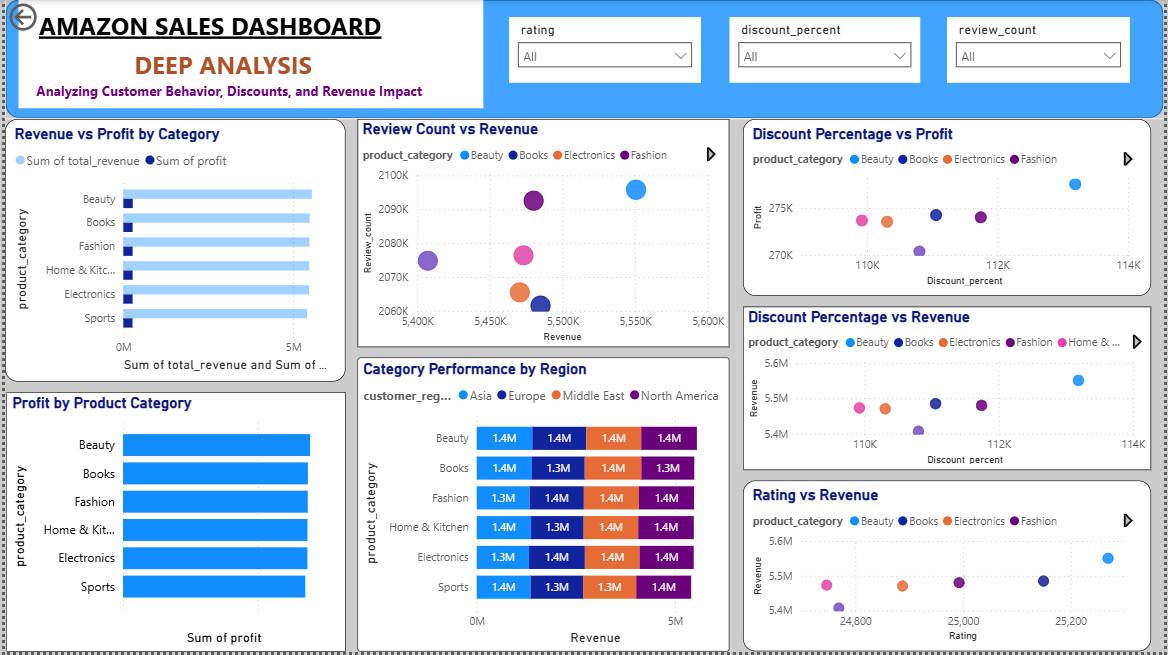

The dashboard page shown, as its layout file describes it:
{"tool":"powerbi","page":{"name":"Page 2","canvas":[1280,720],"ordinal":1},"visuals":[{"type":"shape","box":[0,0,1280.5,132.5],"z":0},{"type":"textbox","box":[14.9,0,513.5,120.9],"z":1000},{"type":"barChart","title":"Profit by Product Category","fields":{"Category":["Amazon_dataset.product_category"],"Y":["Sum(Amazon_dataset.profit)"]},"box":[1.7,434,374.4,286.6],"z":2000},{"type":"clusteredBarChart","title":"Revenue vs Profit by Category","fields":{"Category":["Amazon_dataset.product_category"],"Y":["Sum(Amazon_dataset.total_revenue)","Sum(Amazon_dataset.profit)"]},"box":[0,132.5,376,289.9],"z":3000},{"type":"scatterChart","title":"Rating vs Revenue","fields":{"X":["Sum(Amazon_dataset.rating)"],"Y":["Sum(Amazon_dataset.total_revenue)"],"Series":["Amazon_dataset.product_category"],"Size":["Sum(Amazon_dataset.quantity_sold)"]},"box":[815,531.7,450.6,188.8],"z":4000},{"type":"scatterChart","title":"Review Count vs Revenue","fields":{"Series":["Amazon_dataset.product_category"],"Size":["Sum(Amazon_dataset.quantity_sold)"],"X":["Sum(Amazon_dataset.total_revenue)"],"Y":["Sum(Amazon_dataset.review_count)"]},"box":[389.3,132.5,410.8,251.8],"z":5000},{"type":"scatterChart","title":"Discount Percentage vs Revenue","fields":{"X":["Sum(Amazon_dataset.discount_percent)"],"Y":["Sum(Amazon_dataset.total_revenue)"],"Series":["Amazon_dataset.product_category"],"Size":["Sum(Amazon_dataset.quantity_sold)"]},"box":[815,339.6,450.6,180.6],"z":6000},{"type":"barChart","title":"Category Performance by Region","fields":{"Category":["Amazon_dataset.product_category"],"Series":["Amazon_dataset.customer_region"],"Y":["Sum(Amazon_dataset.total_revenue)"]},"box":[389.3,395.9,410.8,324.7],"z":7000},{"type":"scatterChart","title":"Discount Percentage vs Profit","fields":{"X":["Sum(Amazon_dataset.discount_percent)"],"Y":["Sum(Amazon_dataset.profit)"],"Category":["Amazon_dataset.product_category"],"Size":["Sum(Amazon_dataset.quantity_sold)"],"Series":["Amazon_dataset.product_category"]},"box":[815,132.5,450.6,195.5],"z":8000},{"type":"actionButton","box":[0,0,100,40],"z":9000},{"type":"slicer","fields":{"Values":["Amazon_dataset.rating"]},"box":[556.6,19.9,212,72.9],"z":10000},{"type":"slicer","fields":{"Values":["Amazon_dataset.discount_percent"]},"box":[800.1,19.9,210.4,72.9],"z":10001},{"type":"slicer","fields":{"Values":["Amazon_dataset.review_count"]},"box":[1040.3,19.9,202.1,72.9],"z":10002}]}

Visuals, with their boxes in screenshot pixels (x1, y1, x2, y2), scaled from the page's 1280x720 canvas onto the 1168x655 screenshot:
shape: {"left": 0, "top": 0, "right": 1167, "bottom": 121}
textbox: {"left": 14, "top": 0, "right": 482, "bottom": 110}
"Profit by Product Category" barChart: {"left": 2, "top": 395, "right": 343, "bottom": 654}
"Revenue vs Profit by Category" clusteredBarChart: {"left": 0, "top": 121, "right": 343, "bottom": 384}
"Rating vs Revenue" scatterChart: {"left": 744, "top": 484, "right": 1155, "bottom": 654}
"Review Count vs Revenue" scatterChart: {"left": 355, "top": 121, "right": 730, "bottom": 350}
"Discount Percentage vs Revenue" scatterChart: {"left": 744, "top": 309, "right": 1155, "bottom": 473}
"Category Performance by Region" barChart: {"left": 355, "top": 360, "right": 730, "bottom": 654}
"Discount Percentage vs Profit" scatterChart: {"left": 744, "top": 121, "right": 1155, "bottom": 298}
actionButton: {"left": 0, "top": 0, "right": 91, "bottom": 36}
slicer - Amazon_dataset.rating: {"left": 508, "top": 18, "right": 701, "bottom": 84}
slicer - Amazon_dataset.discount_percent: {"left": 730, "top": 18, "right": 922, "bottom": 84}
slicer - Amazon_dataset.review_count: {"left": 949, "top": 18, "right": 1134, "bottom": 84}
